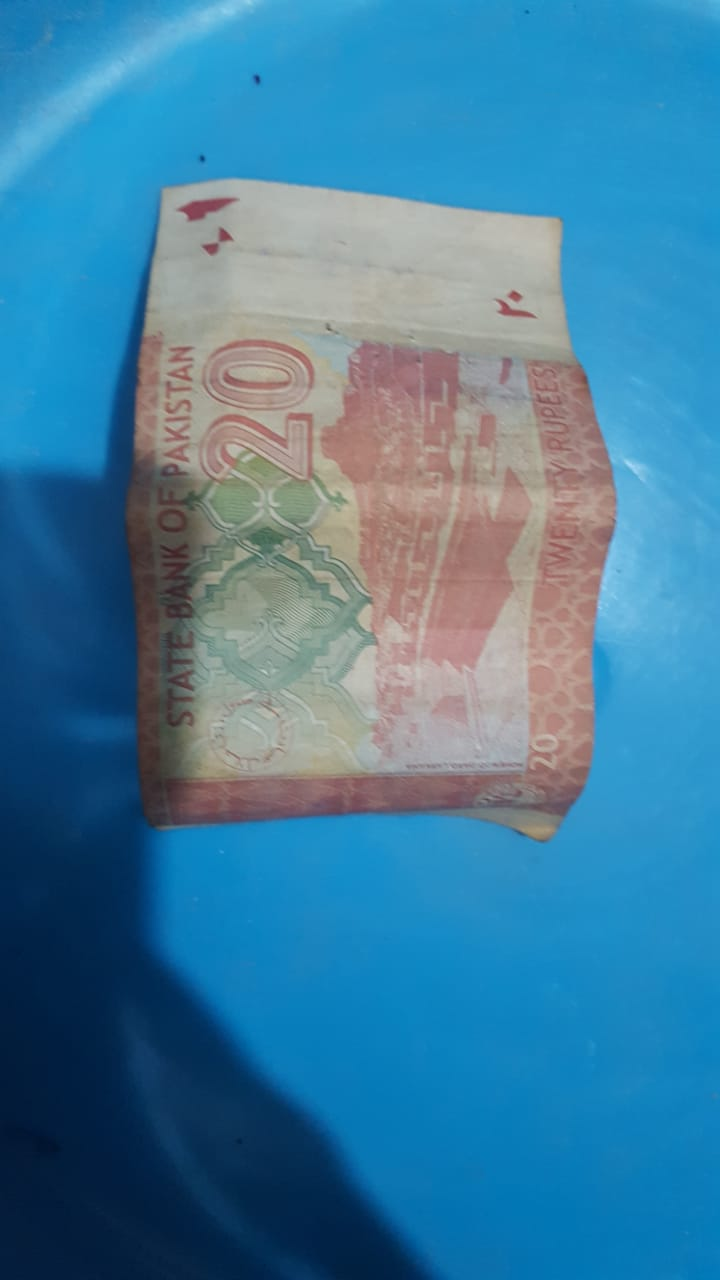20 rupee: (115, 150, 602, 850)
